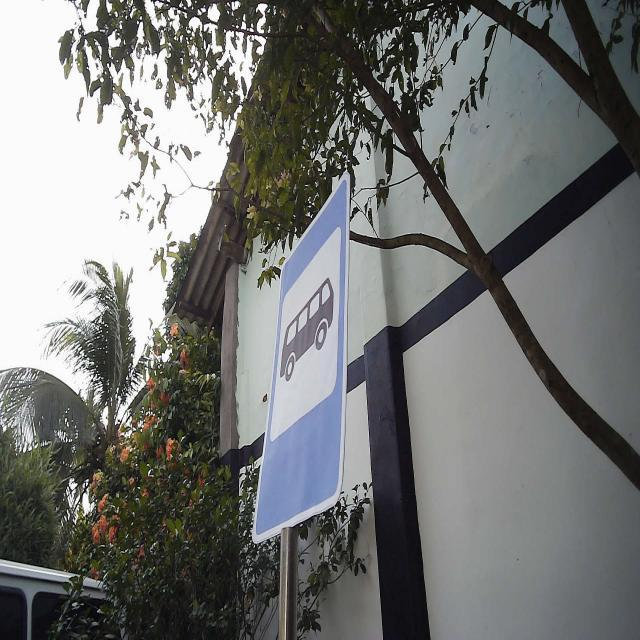bus_stop: (251, 168, 352, 546)
